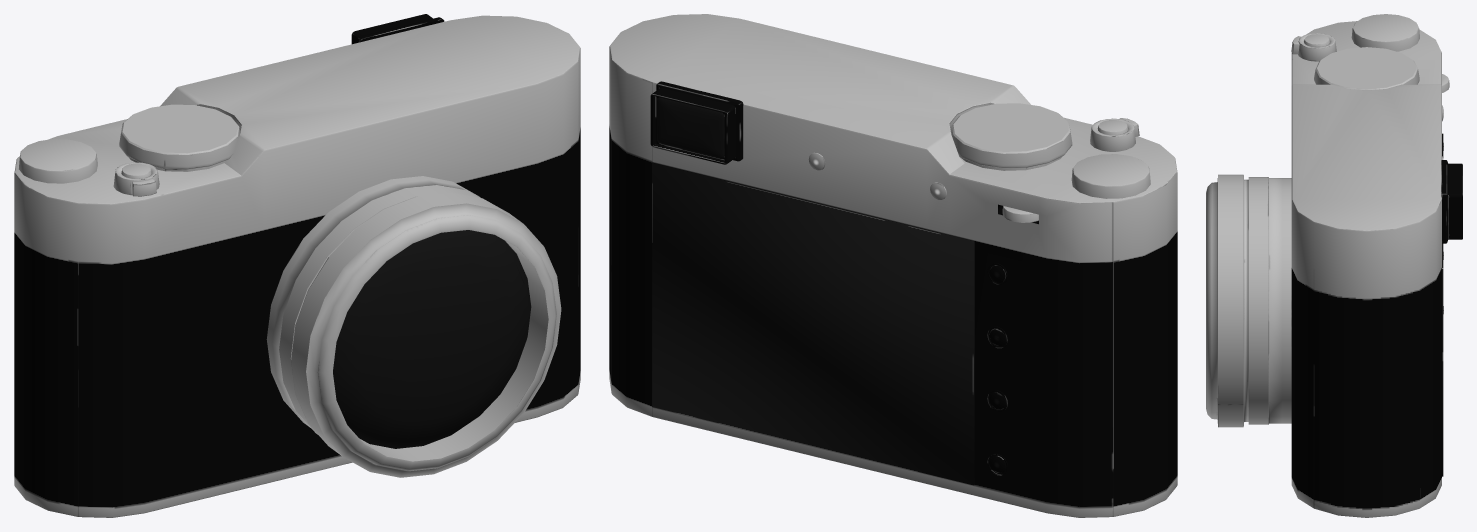
Rendered from 06_Camera.glb.
3 renders of one model, left to right at view 1: azimuth 30°, elevation 25°; view 2: azimuth 150°, elevation 25°; view 3: azimuth 270°, elevation 25°, orthographic. The views are drawn at different scales.
Parts seen in each view (by area): view 1: 06_00_Body.001; view 2: 06_00_Body.001; view 3: 06_00_Body.001.
Part boxes in pixels (box(x1,y1,x2,y2)): 06_00_Body.001: box(14, 14, 580, 517); 06_00_Body.001: box(609, 14, 1177, 517); 06_00_Body.001: box(1206, 14, 1462, 517).
Bounding box in the file's own units: 0.126 × 0.0746 × 0.0599.
1 material, 1 textured.
